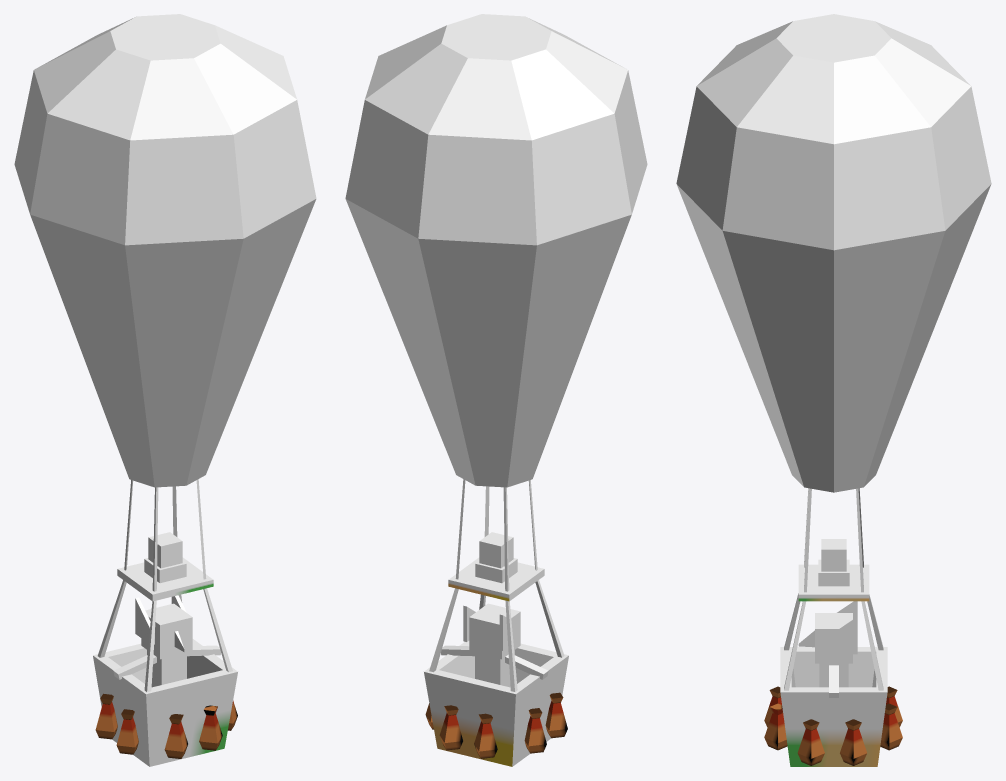
The model's file is GoblinSuicider01.fbx.
The picture shows the model from 3 angles, left to right: view 1: azimuth 30°, elevation 25°; view 2: azimuth 150°, elevation 25°; view 3: azimuth 270°, elevation 25°; orthographic projection.
Visible parts, largest first — view 1: GoblinSuicider01; view 2: GoblinSuicider01; view 3: GoblinSuicider01.
Boxes of the visible parts, x1,y1,x2,y2 form: GoblinSuicider01: [14, 14, 316, 766]; GoblinSuicider01: [345, 14, 647, 766]; GoblinSuicider01: [676, 14, 991, 766].
Size of the model in its own units: 76.41 by 190 by 76.41.
